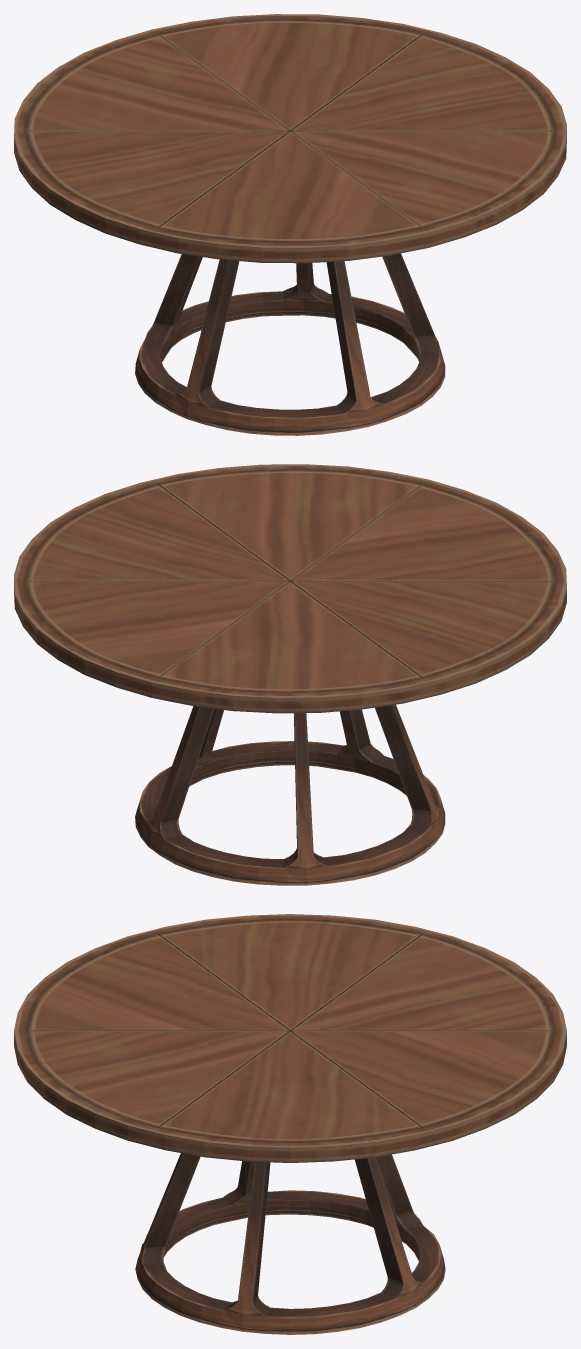
Rendered from P_Table_002_S1_M01.obj.
The picture shows the model from 3 angles, top to bottom: view 1: azimuth 30°, elevation 25°; view 2: azimuth 150°, elevation 25°; view 3: azimuth 270°, elevation 25°; orthographic projection.
Bounding box in the file's own units: 1.89 × 0.8994 × 1.89.
Materials: 1 (1 with a texture image).
